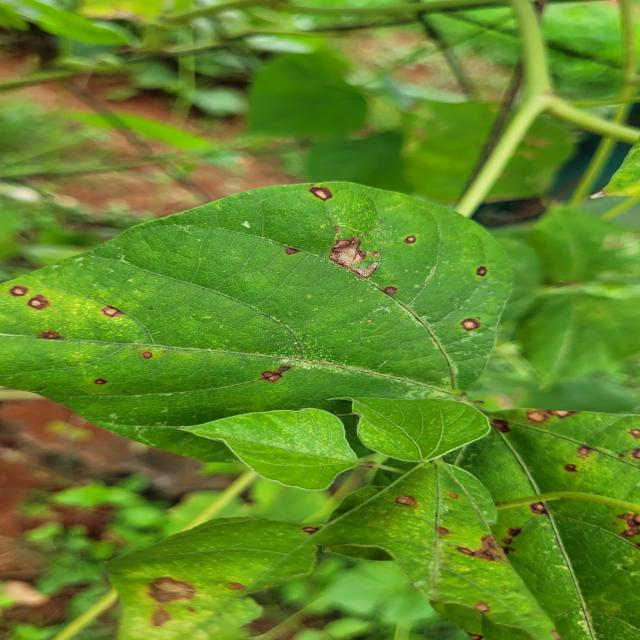Dolicos bean_cercospora leaf spot: (0, 179, 519, 426), (336, 397, 640, 640), (77, 494, 361, 640)
Dolicos bean_healthy: (170, 391, 377, 490), (238, 43, 384, 151), (497, 200, 640, 294), (337, 384, 510, 460), (520, 288, 640, 384)
